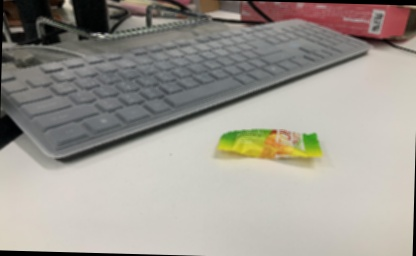jeli: (213, 125, 326, 164)
